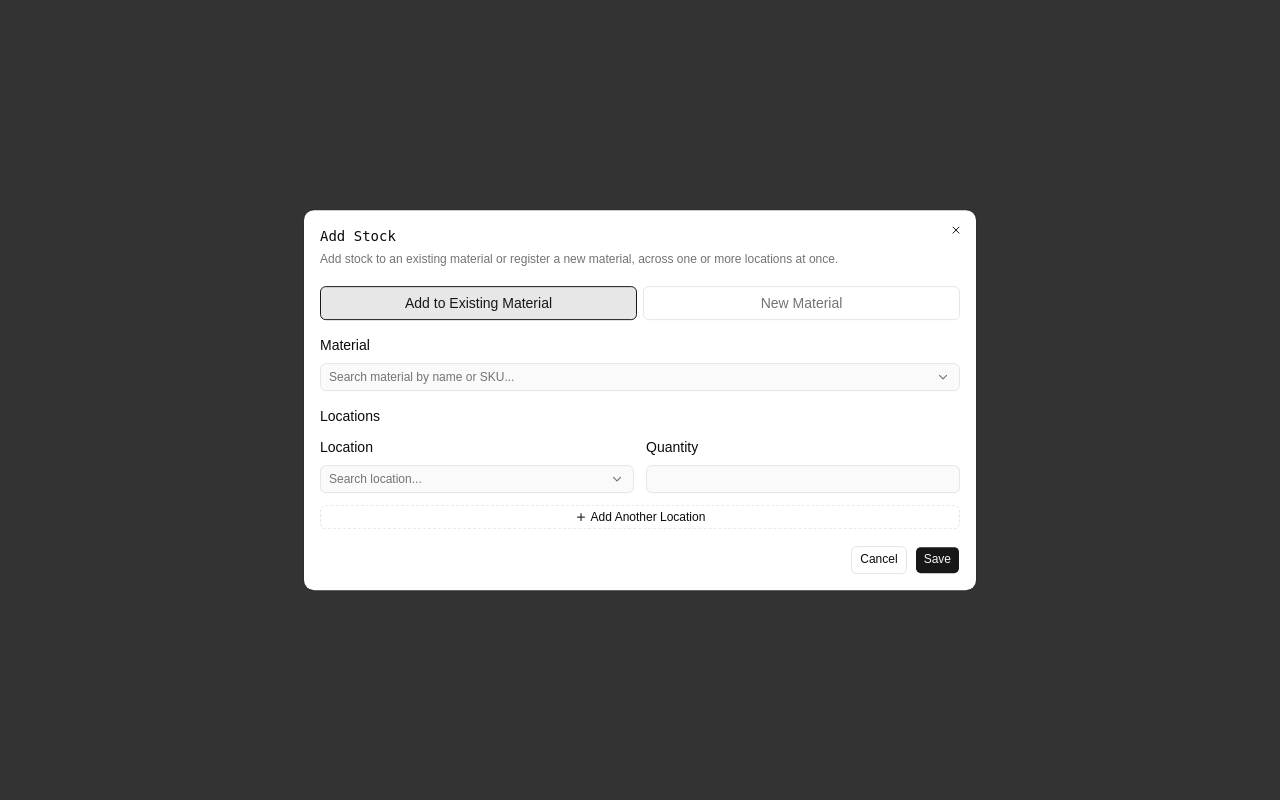
Scenario: AddStockDialog › matches on the SKU as well as the name
Press the mouse on the dropdown with placeholder "Search material by name or SKU..." at (626, 377), box [321,363,931,391]
Press the mouse on the dropdown with placeholder "Search material by name or SKU..." at (626, 377), box [321,363,931,391]
Type "FB-CTN" into the dropdown with placeholder "Search material by name or SKU..." at (626, 377), box [321,363,931,391]
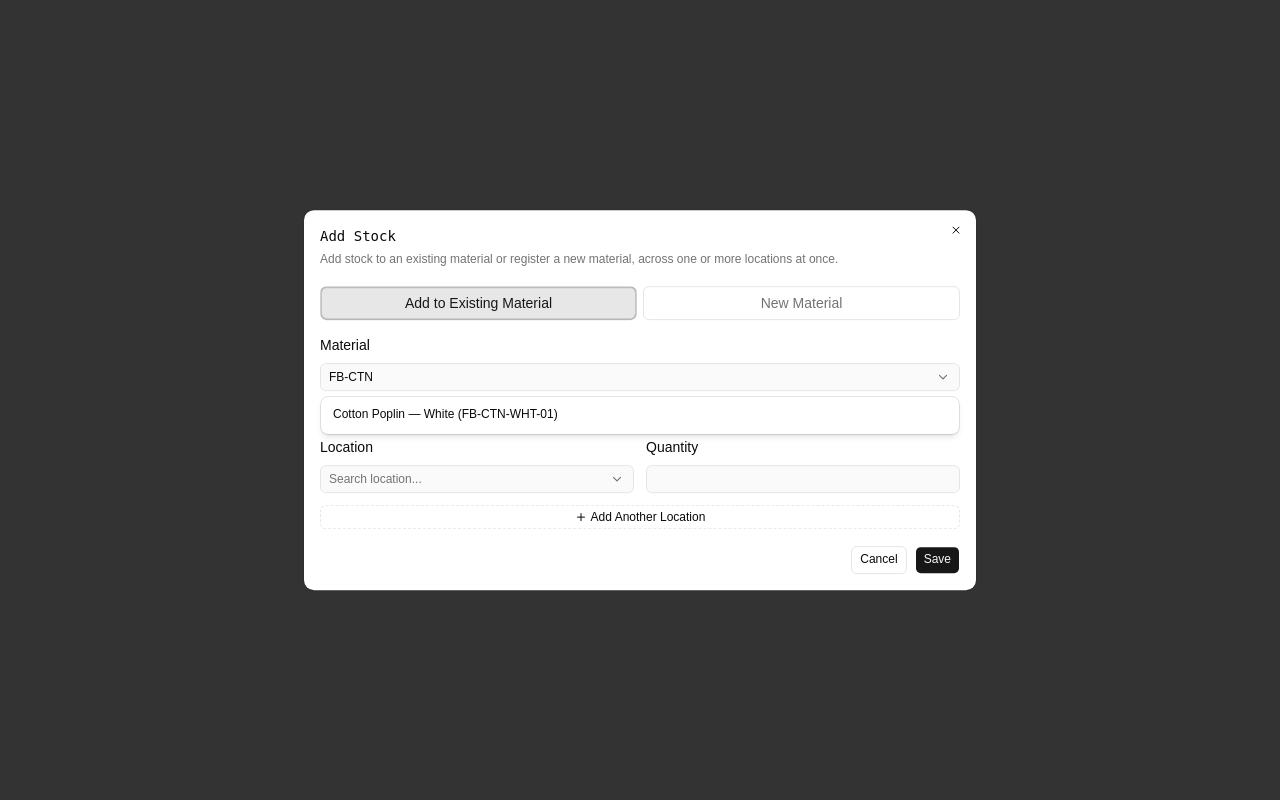
Check: the option "Cotton Poplin — White (FB-CTN-WHT-01)" is shown, box [333,407,558,421]
